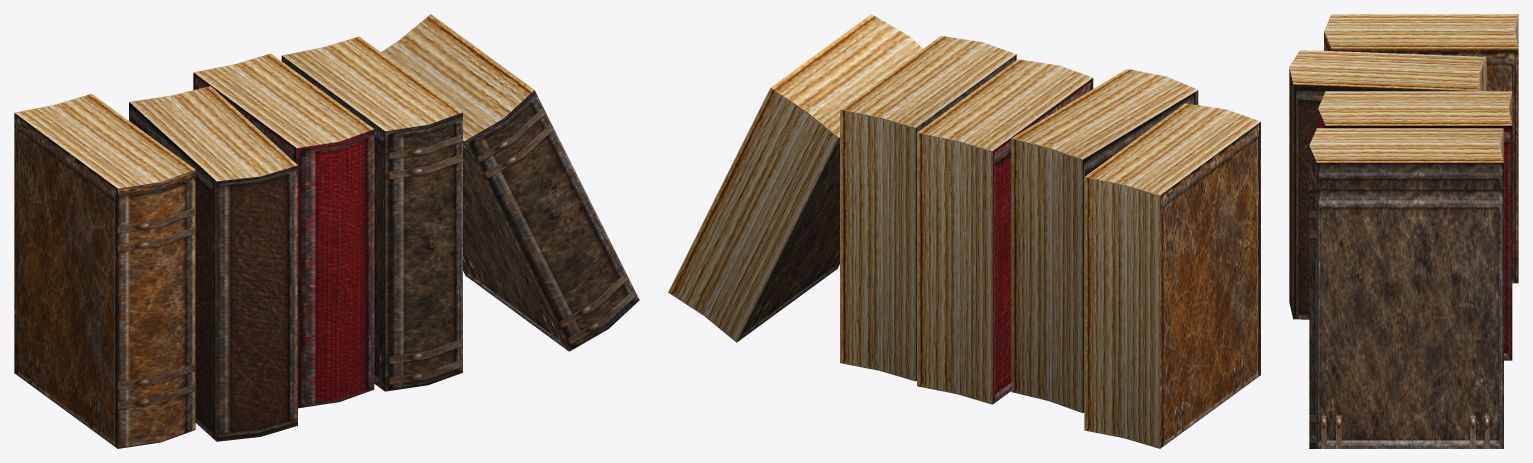
The model's file is mm9_deco_bookstack01.glb.
The picture shows the model from 3 angles, left to right: view 1: azimuth 30°, elevation 25°; view 2: azimuth 150°, elevation 25°; view 3: azimuth 270°, elevation 25°; orthographic projection. The views are drawn at different scales.
Parts seen in each view (by area): view 1: Bookstack01; view 2: Bookstack01; view 3: Bookstack01.
Boxes of the visible parts, <box> form: Bookstack01: <box>14,14,639,448</box>; Bookstack01: <box>668,14,1260,448</box>; Bookstack01: <box>1289,14,1518,448</box>.
Size of the model in its own units: 1.04 by 0.5206 by 0.4433.
Materials: 1 (1 with a texture image).
